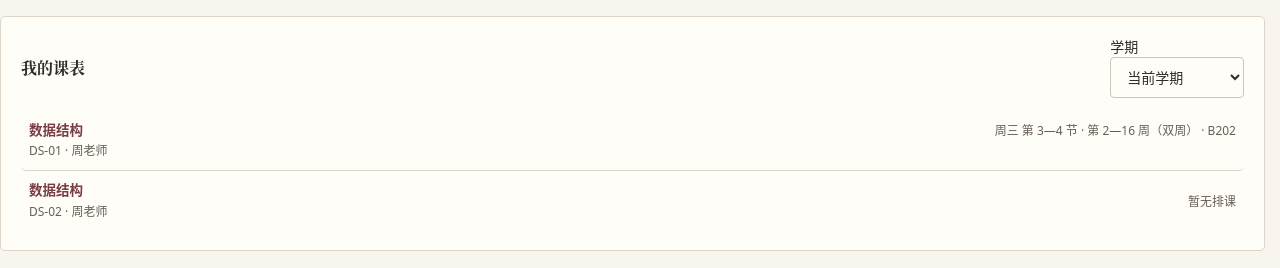
Scenario: 按学期显示同名教学班的独立链接及单双周
The image size is (1280, 268).
Check: the text "周三 第 3—4 节 · 第 2—16 周（双周） · B202" is shown, box [995,122,1236,140]
Select "往期学期" in the dropdown labelled "学期": [1177, 78] box [1110,57,1244,98]
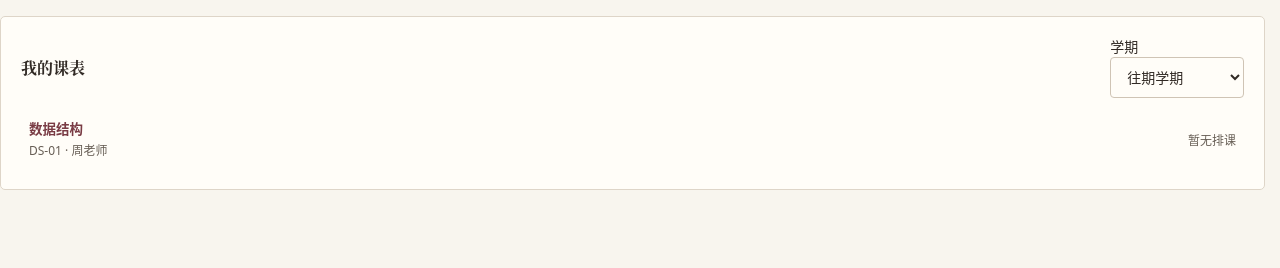
Check: the text "暂无排课" is shown, box [1188,132,1236,150]
Check: the link "数据结构" has attribute href="/courses/old-class", box [29,120,83,138]
